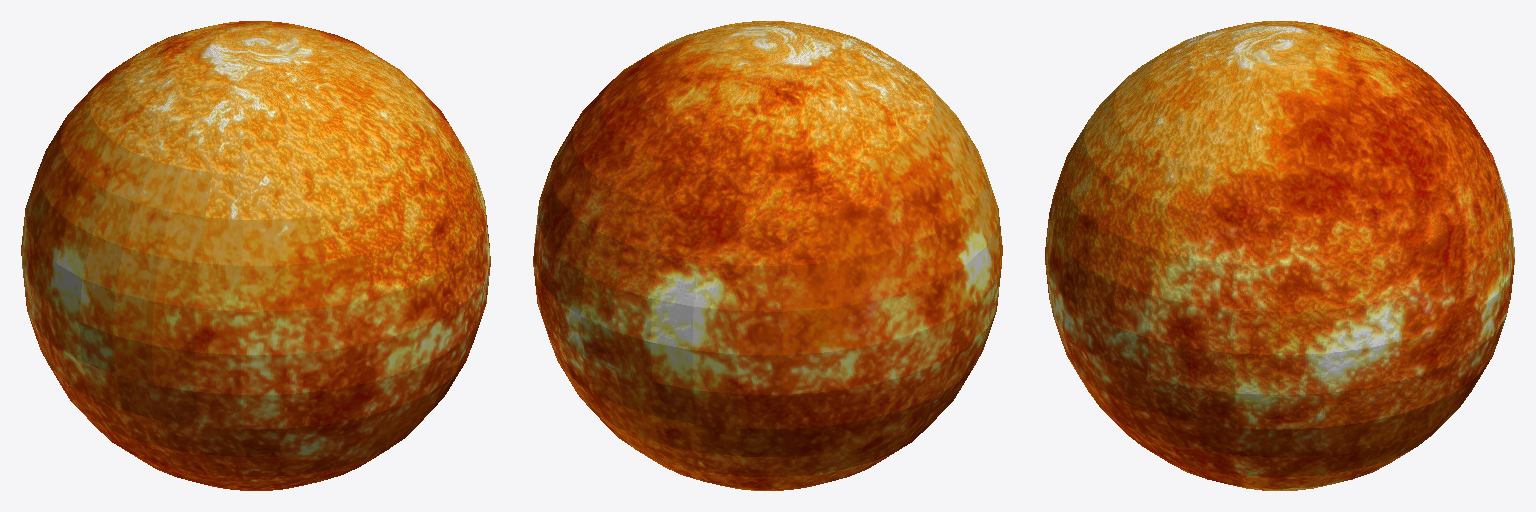
3 renders of one model, left to right at view 1: azimuth 30°, elevation 25°; view 2: azimuth 150°, elevation 25°; view 3: azimuth 270°, elevation 25°, orthographic.
Visible parts, largest first — view 1: Sphere; view 2: Sphere; view 3: Sphere.
Part boxes in pixels (x1,y1,x2,y2): Sphere: (21,21,490,490); Sphere: (533,21,1002,490); Sphere: (1045,21,1514,490).
Bounding box in the file's own units: 2 × 2 × 2.
Materials: 1 (1 with a texture image).